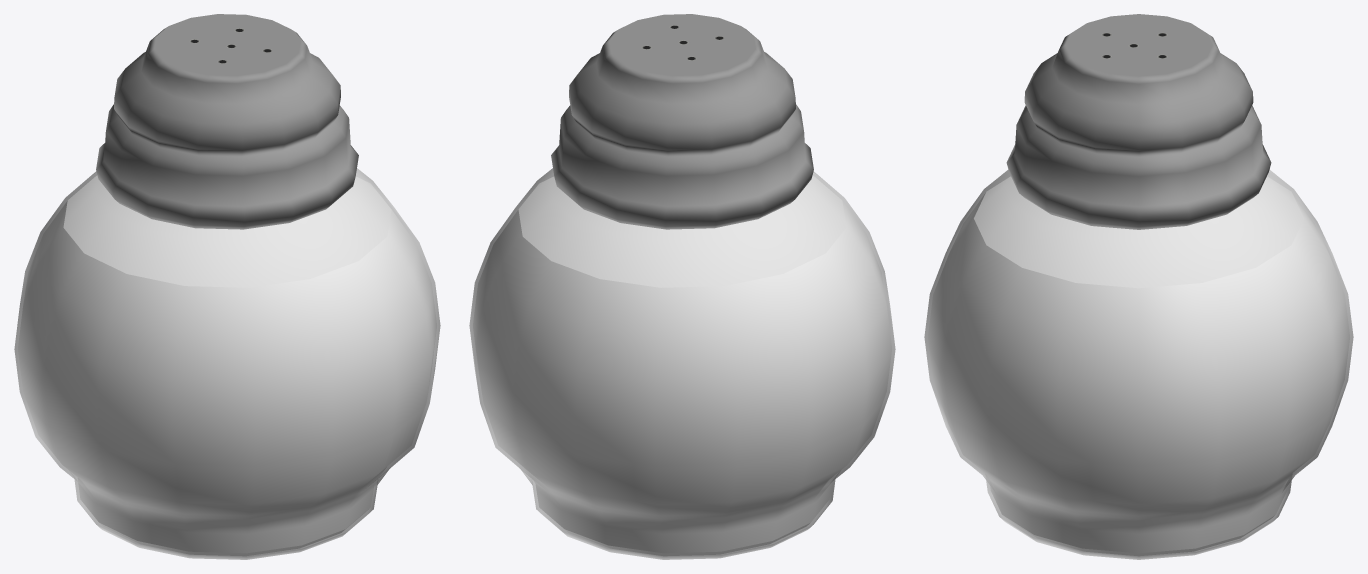
File: salt_full.fbx
3 views of the same model, side by side, from view 1: azimuth 30°, elevation 25°; view 2: azimuth 150°, elevation 25°; view 3: azimuth 270°, elevation 25° (orthographic).
Parts seen in each view (by area): view 1: salt_full; view 2: salt_full; view 3: salt_full.
Part boxes in pixels (x1,y1,x2,y2): salt_full: [14, 14, 440, 559]; salt_full: [469, 14, 895, 559]; salt_full: [924, 14, 1353, 559].
Size of the model in its own units: 6.53 by 7.66 by 6.53.
3 materials, 1 textured.
